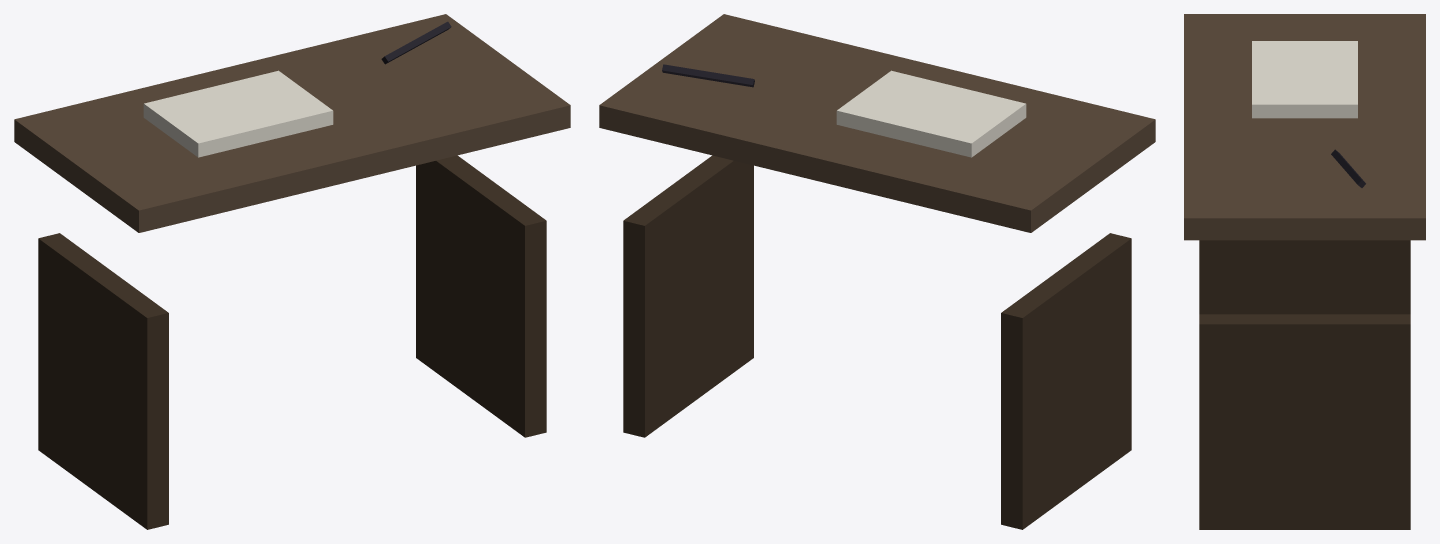
The model's file is s2_archive_desk.glb.
3 renders of one model, left to right at view 1: azimuth 30°, elevation 25°; view 2: azimuth 150°, elevation 25°; view 3: azimuth 270°, elevation 25°, orthographic. The views are drawn at different scales.
Visible parts, largest first — view 1: s2_archive_desk; view 2: s2_archive_desk; view 3: s2_archive_desk.
Boxes of the visible parts, bbox=[...] form: s2_archive_desk: bbox=[14, 14, 570, 529]; s2_archive_desk: bbox=[599, 14, 1155, 529]; s2_archive_desk: bbox=[1184, 14, 1425, 529].
Size of the model in its own units: 1.6 by 1.25 by 0.8.
